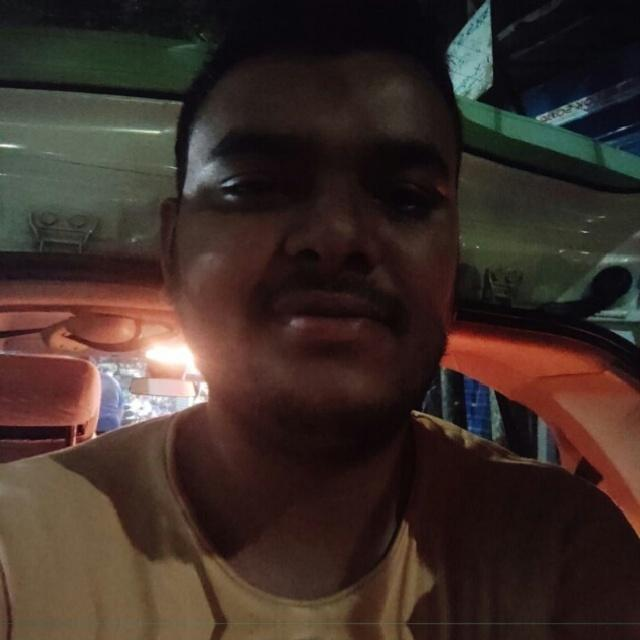Happy: (133, 80, 525, 523)
